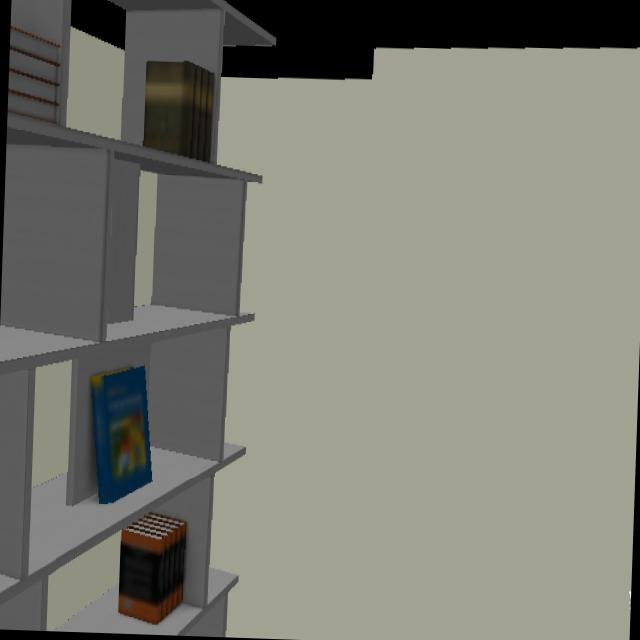book: (85, 364, 152, 506), (141, 59, 218, 164), (118, 513, 189, 625), (7, 25, 61, 125)
bookshelf: (0, 0, 275, 631), (107, 143, 262, 466)
shelf: (54, 478, 238, 636)
